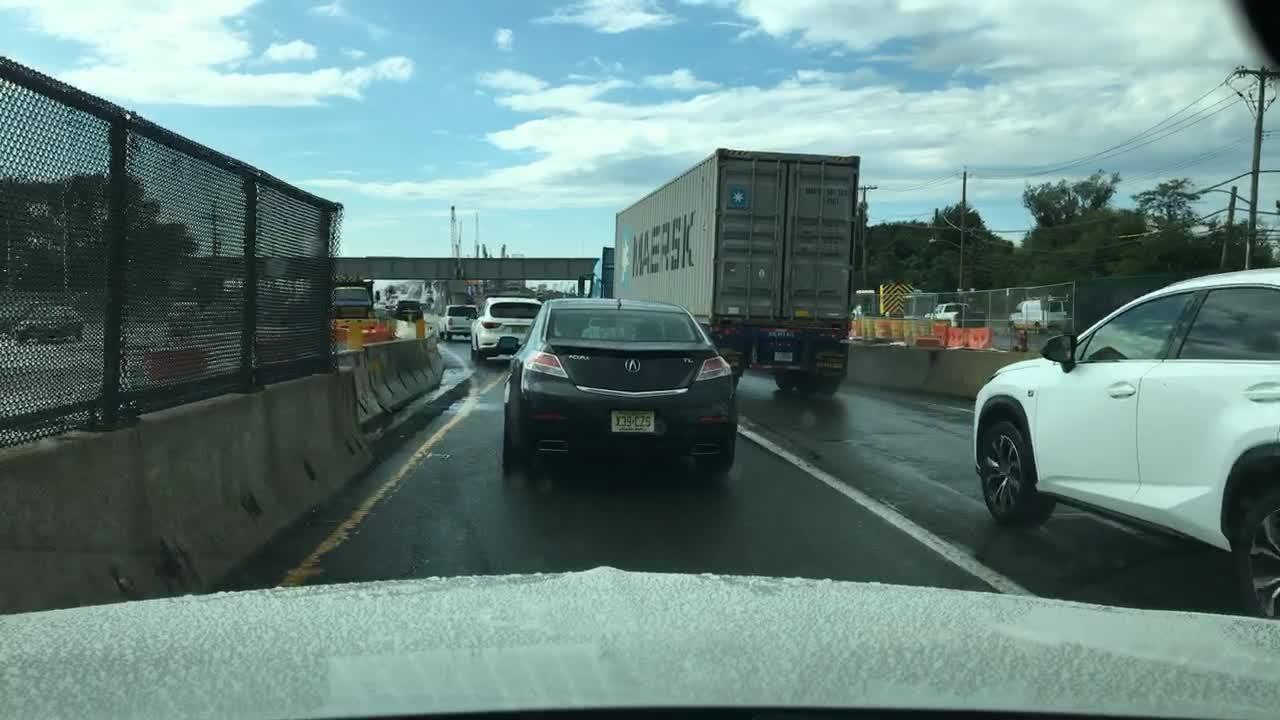acura: (619, 351, 645, 378)
